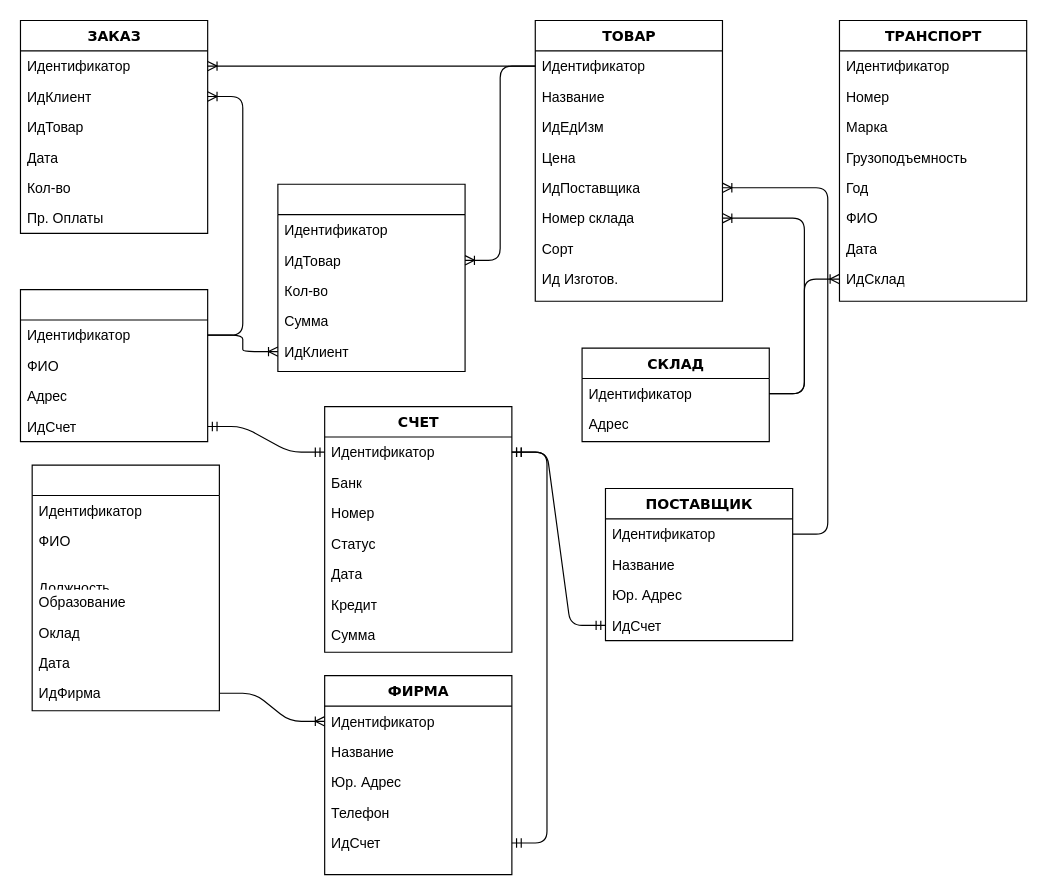
This 1047x895 diagram has some shape labels left out. The box of each missing label's shape, as (x1, y1, x2, y2) in pixels:
КЛИЕНТ: (19, 288, 208, 442)
НАКЛАДНАЯ: (277, 183, 465, 371)
СОТРУДНИКИ: (31, 464, 219, 711)
